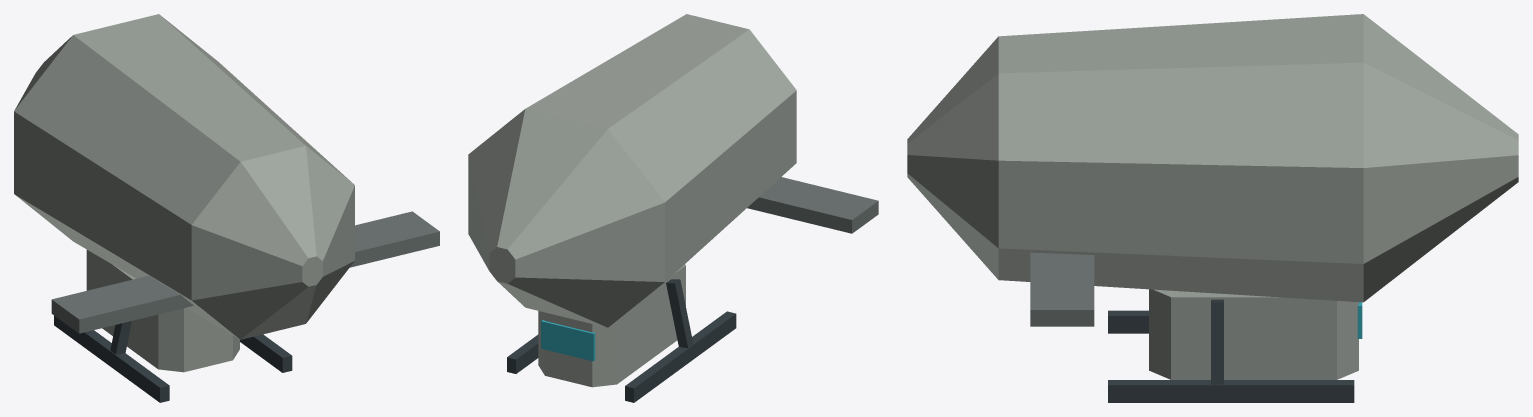
Rendered from family-airship.glb.
3 renders of one model, left to right at view 1: azimuth 30°, elevation 25°; view 2: azimuth 150°, elevation 25°; view 3: azimuth 270°, elevation 25°, orthographic. The views are drawn at different scales.
Parts seen in each view (by area): view 1: hull, gear-1, gear1; view 2: hull, gear-1, gear1; view 3: hull, gear1, gear-1.
Part boxes in pixels (<box>): hull: <box>14,14,439,372</box>; gear-1: <box>54,315,169,402</box>; gear1: <box>240,334,292,372</box>; hull: <box>468,14,878,387</box>; gear-1: <box>625,279,736,402</box>; gear1: <box>507,334,538,373</box>; hull: <box>907,14,1518,379</box>; gear1: <box>1108,299,1354,402</box>; gear-1: <box>1108,310,1148,333</box>.
Bounding box in the file's own units: 53 × 39.56 × 67.
